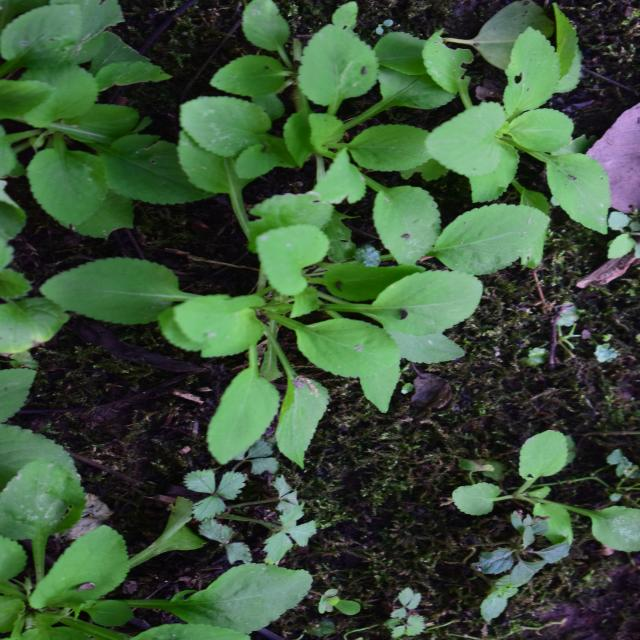Viola: (210, 159, 443, 536), (25, 164, 230, 501)
